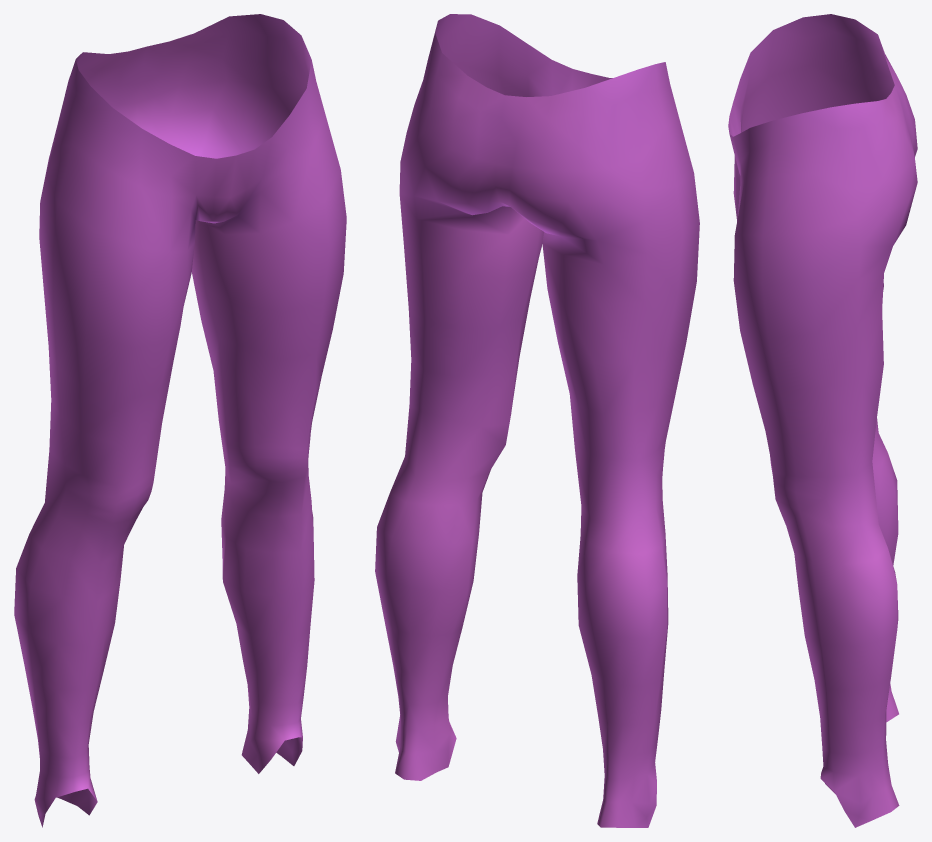
3 renders of one model, left to right at view 1: azimuth 30°, elevation 25°; view 2: azimuth 150°, elevation 25°; view 3: azimuth 270°, elevation 25°, orthographic. The views are drawn at different scales.
Parts seen in each view (by area): view 1: hash_6B5DBDDF.model; view 2: hash_6B5DBDDF.model; view 3: hash_6B5DBDDF.model.
Part boxes in pixels (box(x1,y1,x2,y2)): hash_6B5DBDDF.model: box(14, 14, 346, 827); hash_6B5DBDDF.model: box(375, 14, 699, 827); hash_6B5DBDDF.model: box(728, 14, 917, 827).
Bounding box in the file's own units: 0.4138 × 1.06 × 0.2554.
